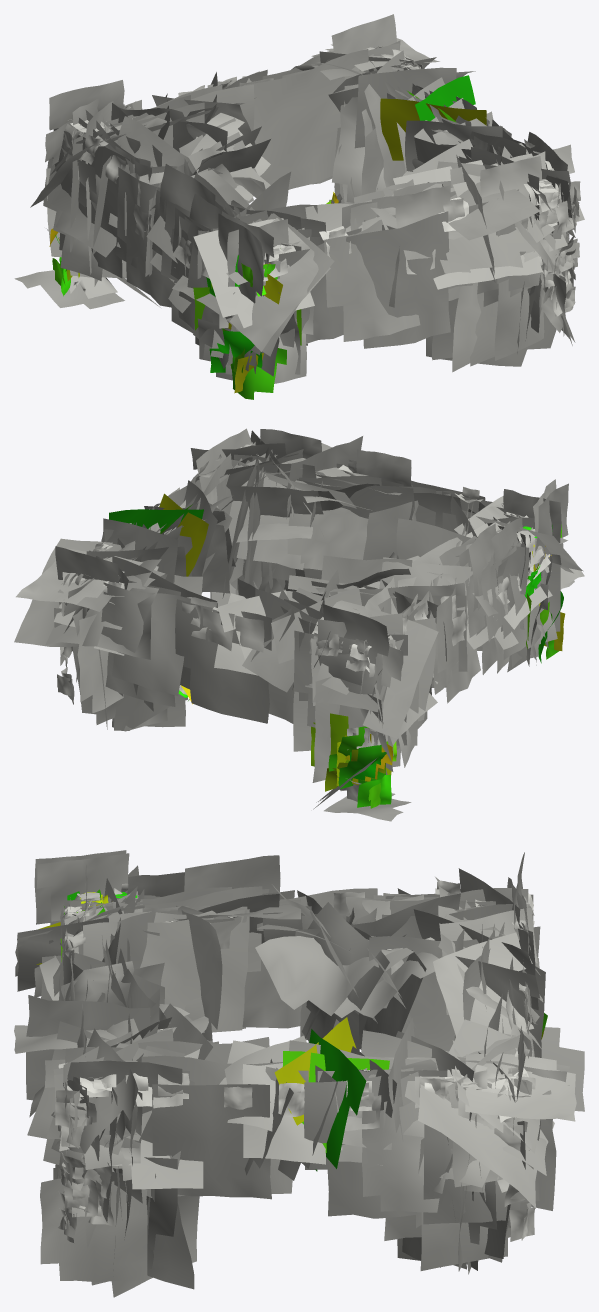
File: Cobwebs.fbx
The picture shows the model from 3 angles, top to bottom: view 1: azimuth 30°, elevation 25°; view 2: azimuth 150°, elevation 25°; view 3: azimuth 270°, elevation 25°; orthographic projection. The views are drawn at different scales.
Visible parts, largest first — view 1: Cobwebs; view 2: Cobwebs; view 3: Cobwebs.
Part boxes in pixels (x1,y1,x2,y2): Cobwebs: [14, 14, 584, 399]; Cobwebs: [14, 428, 584, 821]; Cobwebs: [14, 850, 584, 1297].
Bounding box in the file's own units: 794 × 421 × 798.
